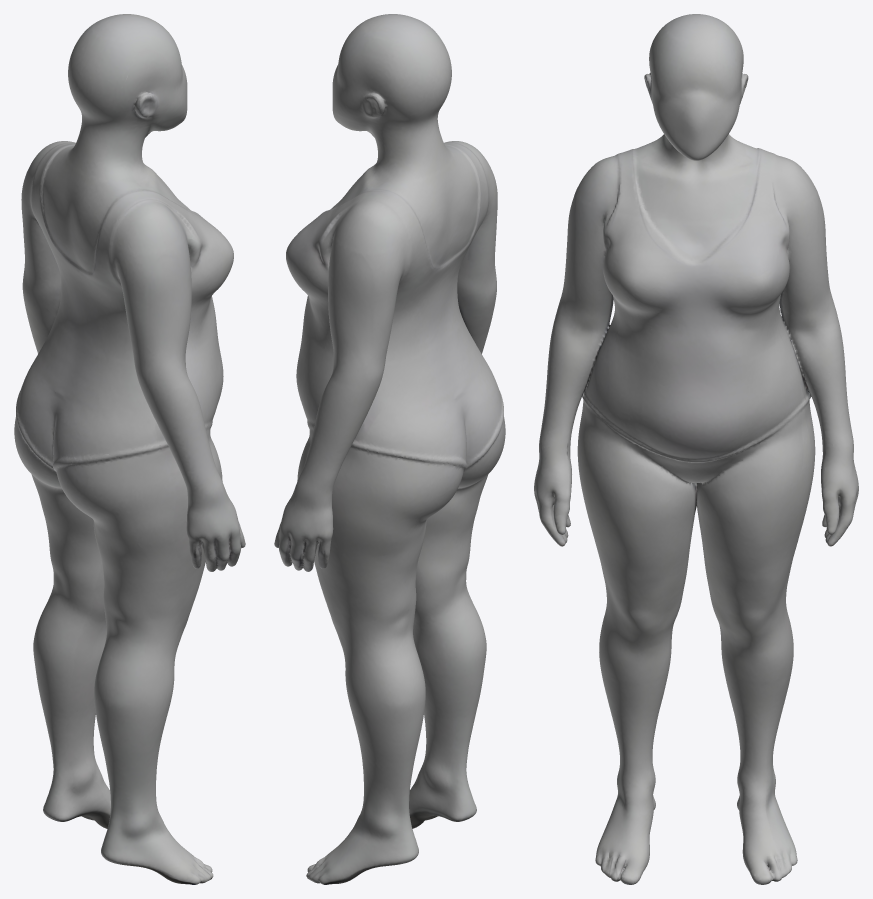
The model's file is female-chubby.glb.
3 renders of one model, left to right at view 1: azimuth 30°, elevation 25°; view 2: azimuth 150°, elevation 25°; view 3: azimuth 270°, elevation 25°, orthographic.
Parts seen in each view (by area): view 1: tripo_node_f760ce97-54c7-4738-971e-f0f1b147e587; view 2: tripo_node_f760ce97-54c7-4738-971e-f0f1b147e587; view 3: tripo_node_f760ce97-54c7-4738-971e-f0f1b147e587.
Boxes of the visible parts, <box> form: tripo_node_f760ce97-54c7-4738-971e-f0f1b147e587: <box>14,14,245,884</box>; tripo_node_f760ce97-54c7-4738-971e-f0f1b147e587: <box>274,14,505,884</box>; tripo_node_f760ce97-54c7-4738-971e-f0f1b147e587: <box>534,14,858,884</box>.
Size of the model in its own units: 0.213 by 1 by 0.3498.
1 material, 1 textured.
